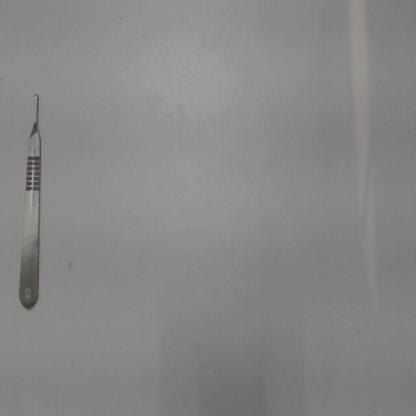No.3 BP Handle: (13, 82, 49, 318)
